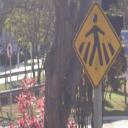NoSeguir: (6, 42, 13, 59)
